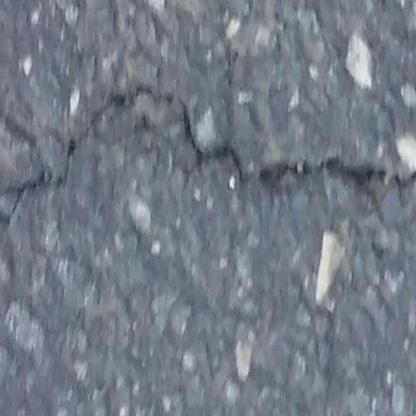Cracks: (0, 80, 416, 274)
